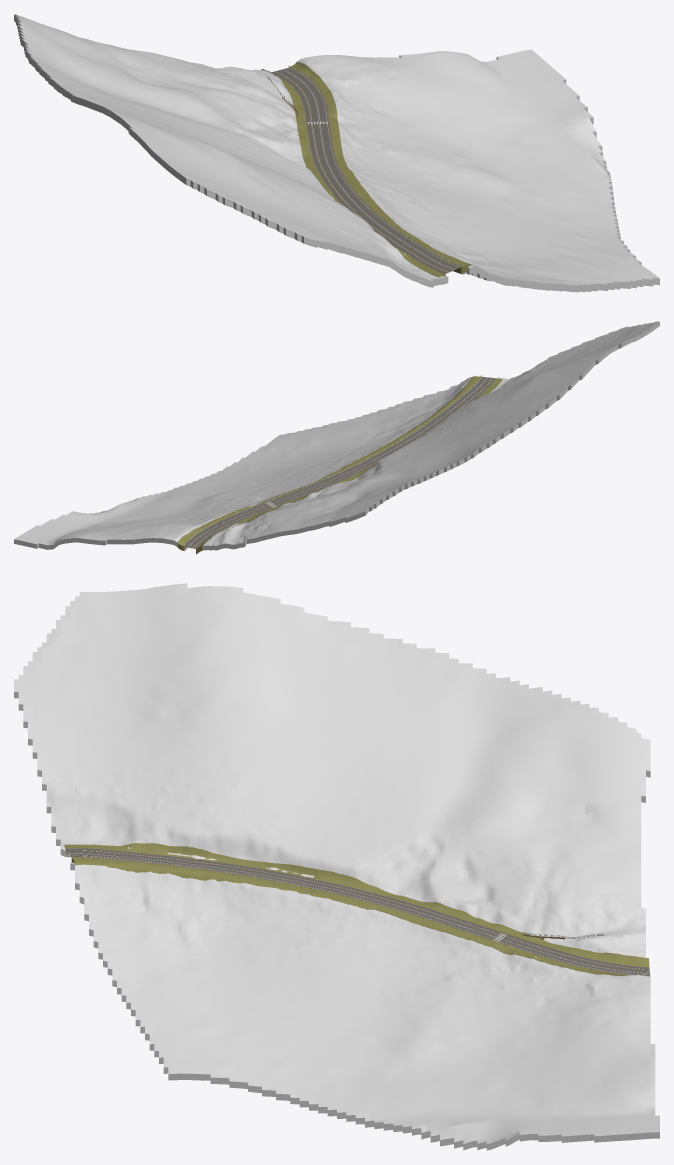
Rendered from conz_6.glb.
3 views of the same model, one above another, from view 1: azimuth 30°, elevation 25°; view 2: azimuth 150°, elevation 25°; view 3: azimuth 270°, elevation 25° (orthographic). The views are drawn at different scales.
Visible parts, largest first — view 1: terrain6, road6, verge6R, verge6L, paint_white6; view 2: terrain6, road6, verge6R, verge6L; view 3: terrain6, road6, verge6L, verge6R.
Boxes of the visible parts, x1=… form: terrain6: x1=14, y1=14, x2=659, y2=292; road6: x1=272, y1=68, x2=460, y2=273; verge6R: x1=288, y1=62, x2=471, y2=273; verge6L: x1=261, y1=69, x2=445, y2=277; paint_white6: x1=282, y1=69, x2=454, y2=269; terrain6: x1=14, y1=321, x2=659, y2=554; road6: x1=183, y1=376, x2=495, y2=549; verge6R: x1=177, y1=376, x2=481, y2=550; verge6L: x1=196, y1=378, x2=502, y2=553; terrain6: x1=14, y1=583, x2=659, y2=1150; road6: x1=66, y1=848, x2=650, y2=975; verge6L: x1=64, y1=843, x2=649, y2=966; verge6R: x1=71, y1=857, x2=649, y2=976.
Size of the model in its own units: 302 by 133 by 276.
